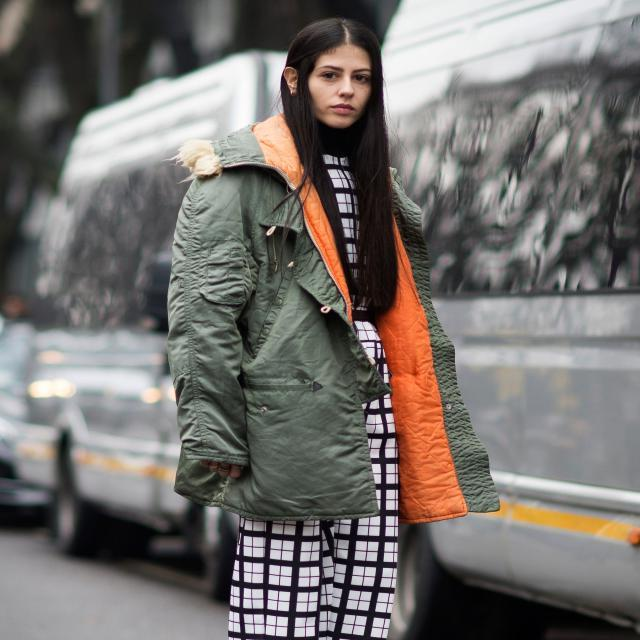coat: (162, 114, 506, 523)
dress: (223, 153, 408, 639)
